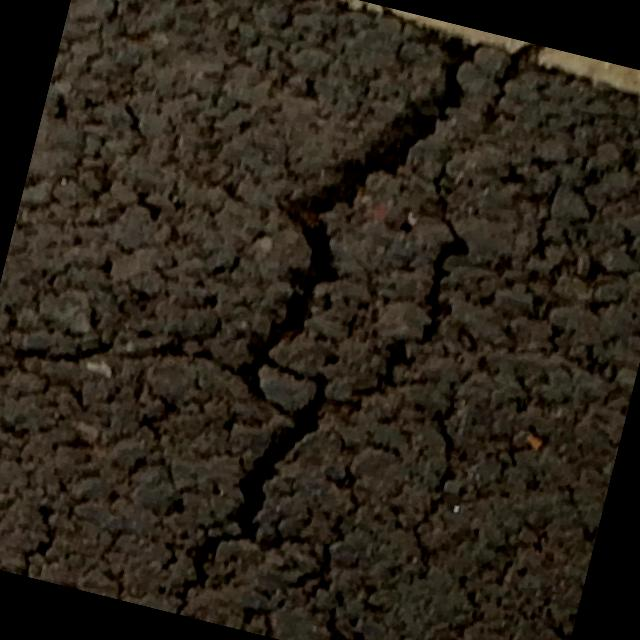crack: (169, 0, 552, 640)
